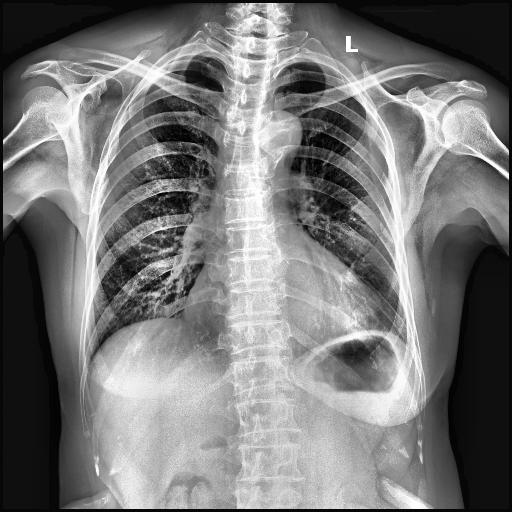0- Aortic enlargement: (254, 110, 302, 158), (260, 109, 302, 161), (258, 108, 303, 156)
3- Cardiomegaly: (182, 276, 380, 342), (186, 272, 382, 332), (184, 286, 378, 344)
